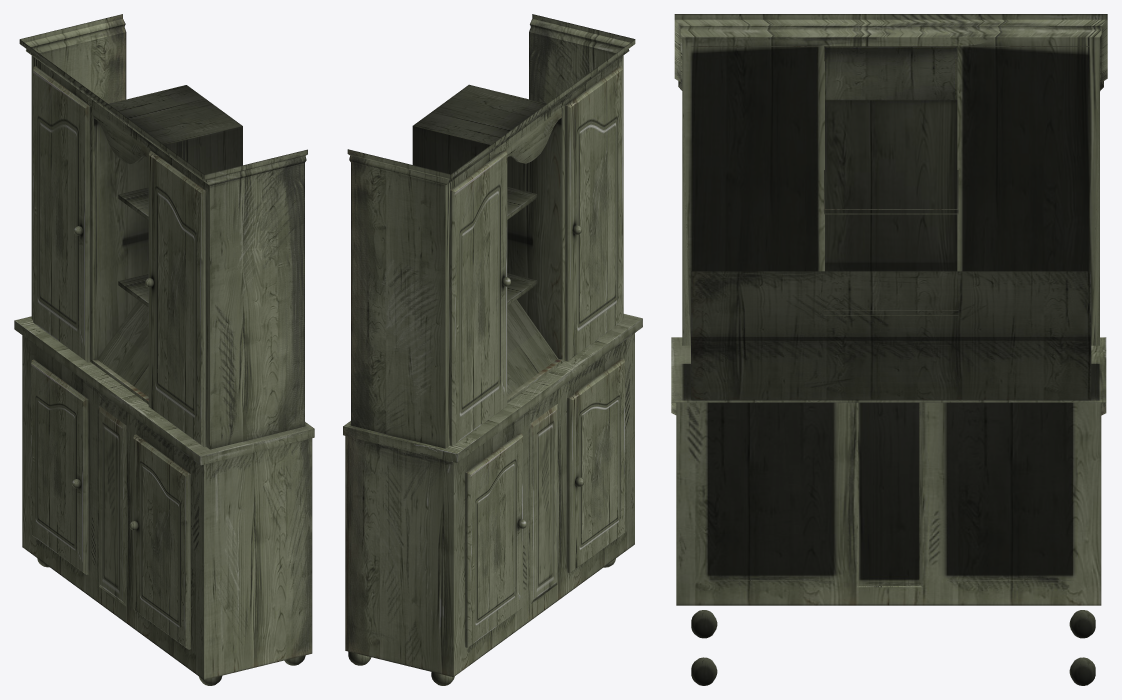
Rendered from cabinet.fbx.
3 views of the same model, side by side, from view 1: azimuth 30°, elevation 25°; view 2: azimuth 150°, elevation 25°; view 3: azimuth 270°, elevation 25° (orthographic). The views are drawn at different scales.
Parts seen in each view (by area): view 1: polySurface1843; view 2: polySurface1843; view 3: polySurface1843.
Boxes of the visible parts, x1,y1,x2,y2 form: polySurface1843: [14, 14, 314, 685]; polySurface1843: [343, 14, 642, 685]; polySurface1843: [671, 14, 1107, 685].
Bounding box in the file's own units: 55.84 × 226 × 146.
